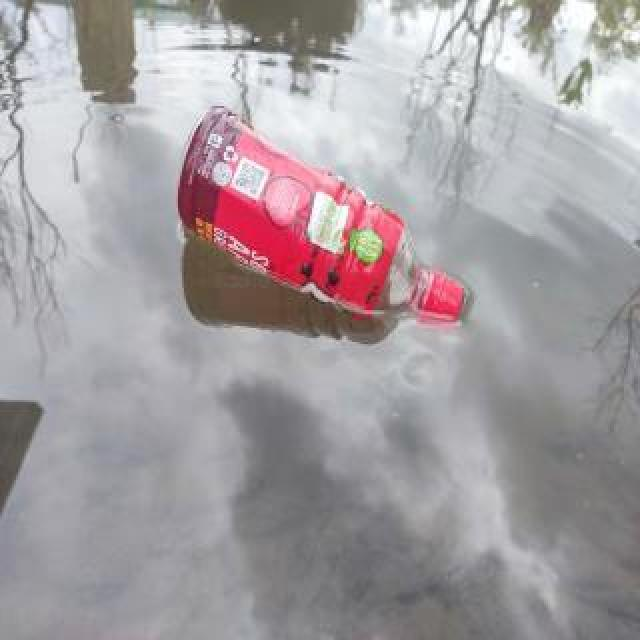bottle: (169, 94, 473, 332)
